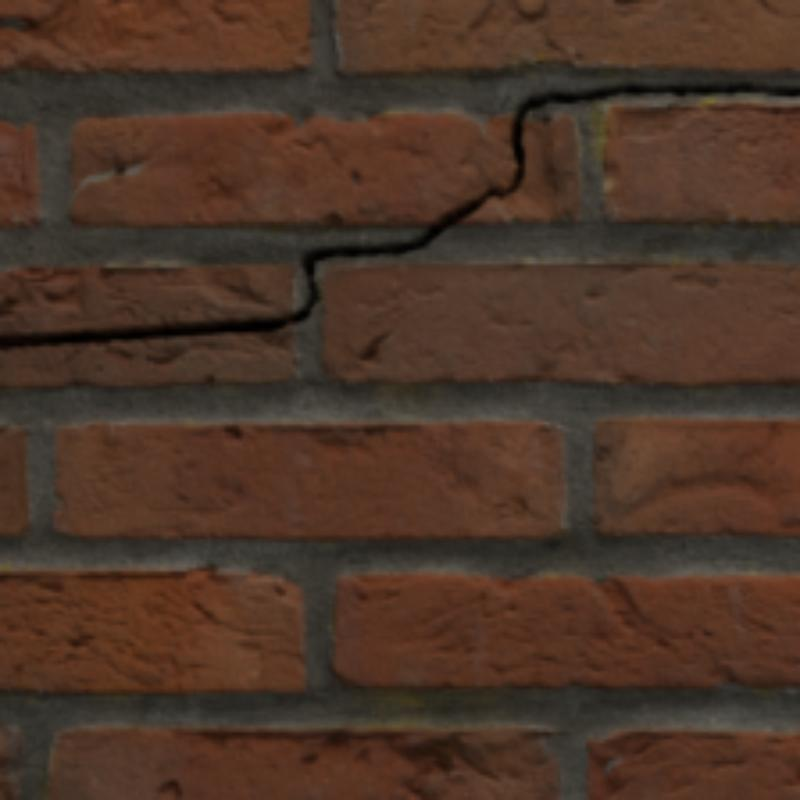pothole: (0, 86, 796, 343)
